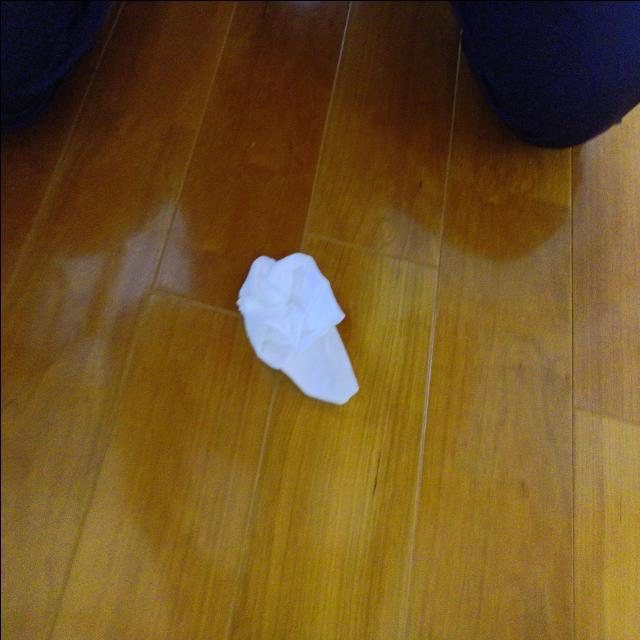Paper: (216, 253, 365, 407)
